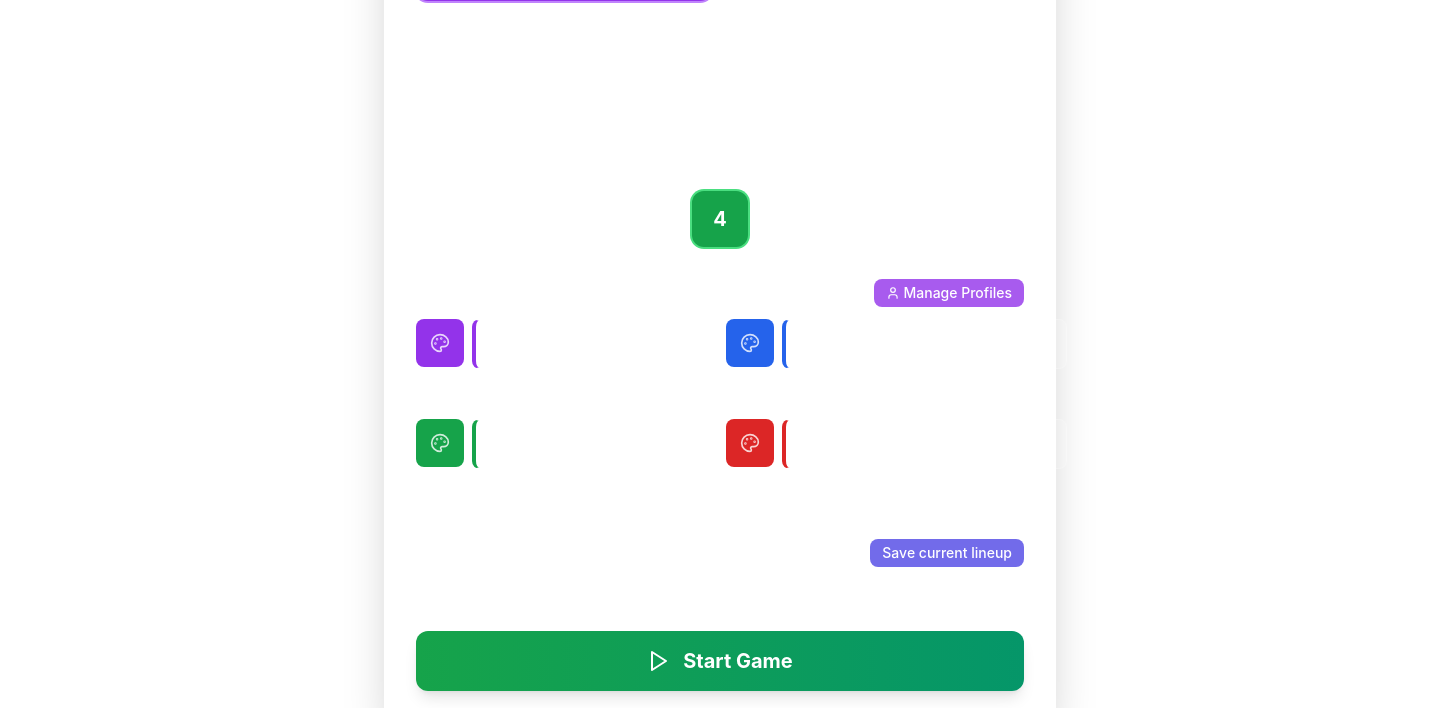
LifeCounter game flow › direct life entry pad sets an exact total
(page scrolled)
Click the button "Start Game". click: (720, 661)
box: [416,631,1024,691]
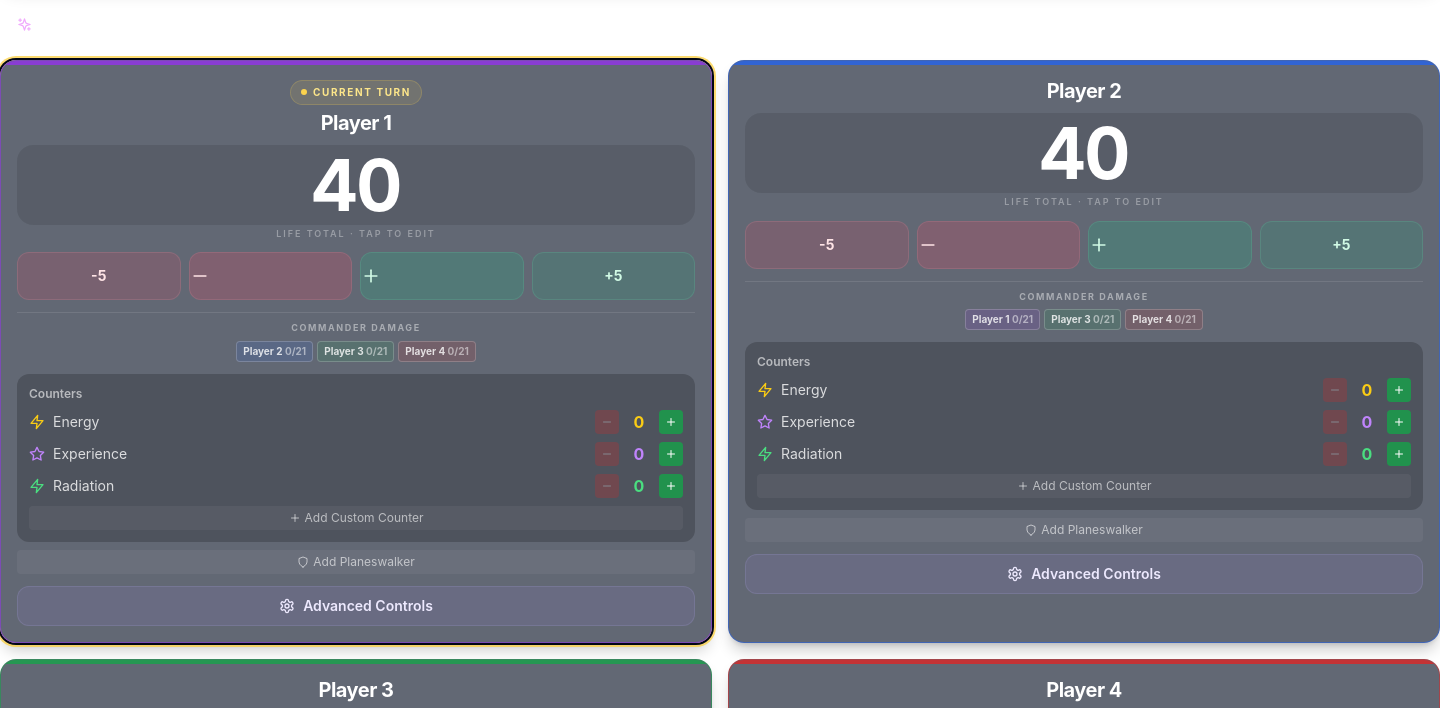
Click the button with test id "life-total-1". click: (356, 184)
box: [17,144,695,224]
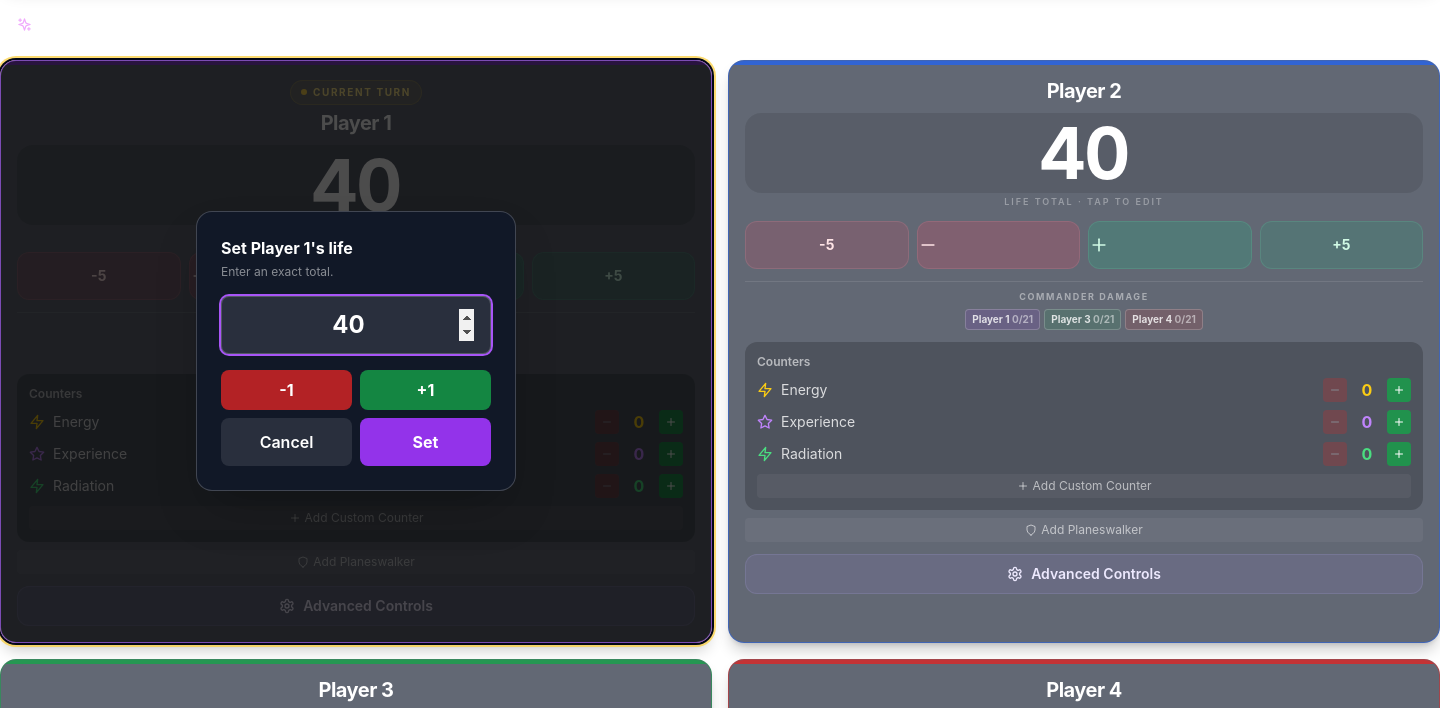
Expected: the element with test id "life-entry-1" is shown, [1,61,711,642]
Replace the text in the number field with test id "life-entry-input-1" with "27". click: (356, 325)
box: [221,296,491,354]
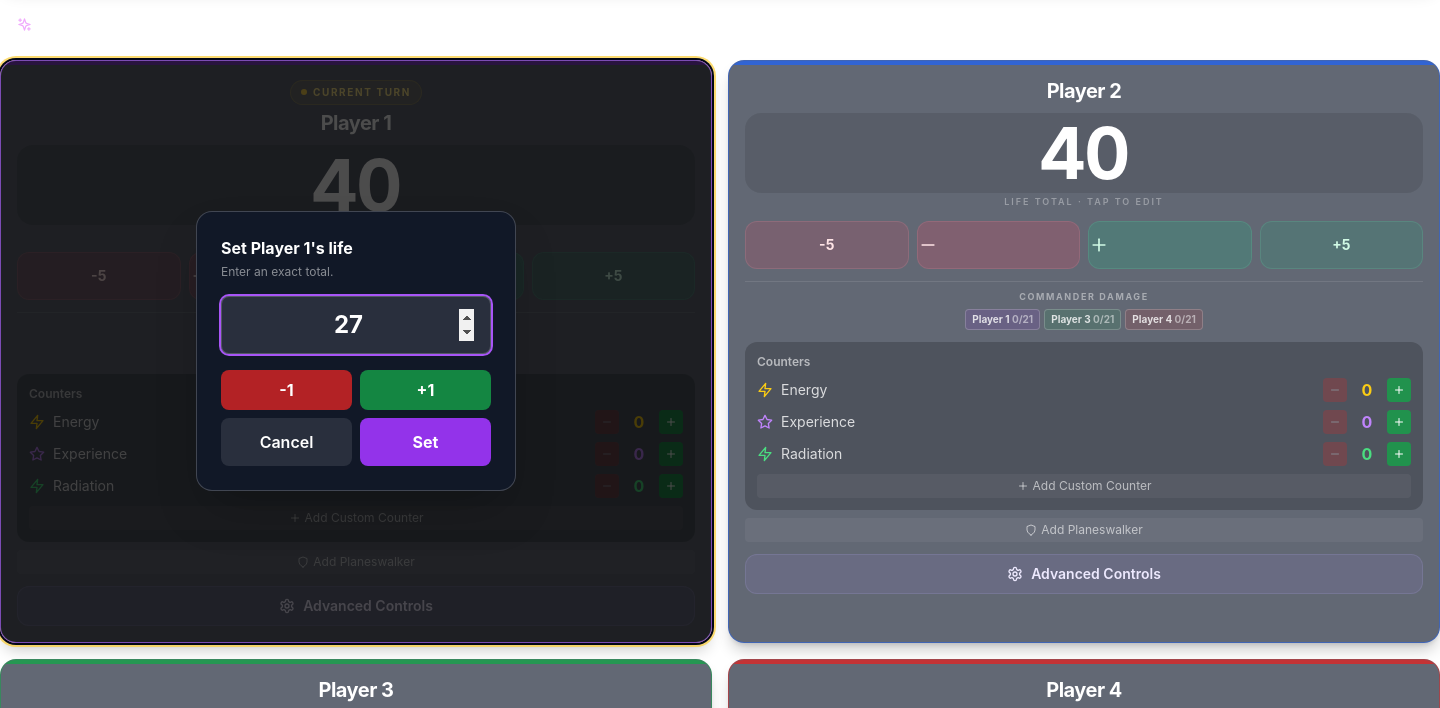
Click the button "Set". click: (426, 442)
box: [360,418,491,466]
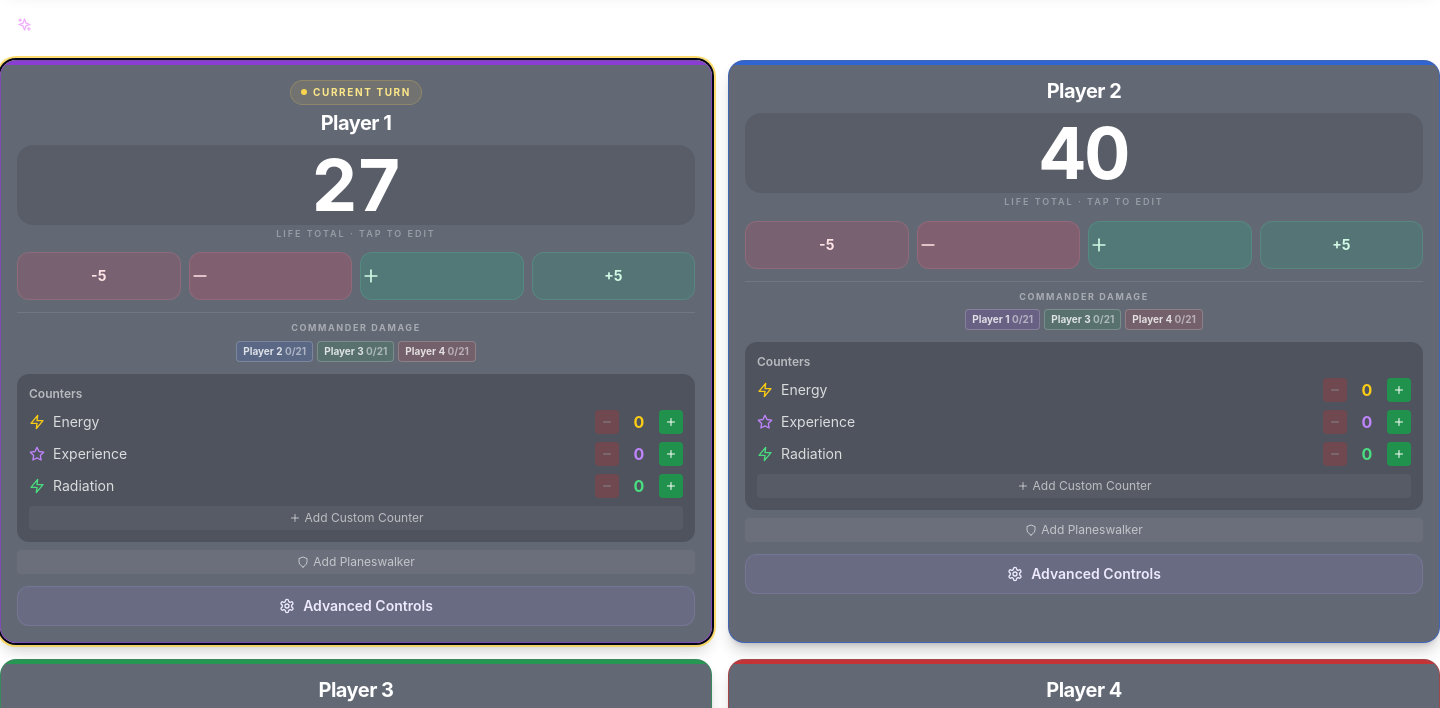
Expected: the element with test id "life-entry-1" is gone
